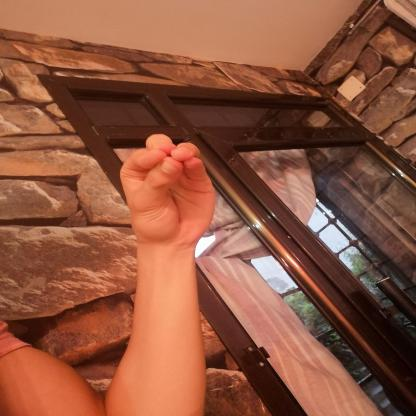HA: (97, 122, 234, 260)
